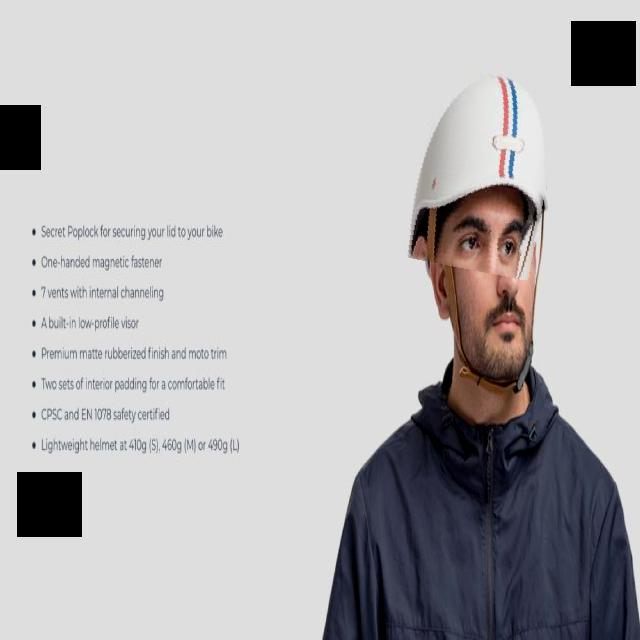helmet: (410, 66, 557, 275)
